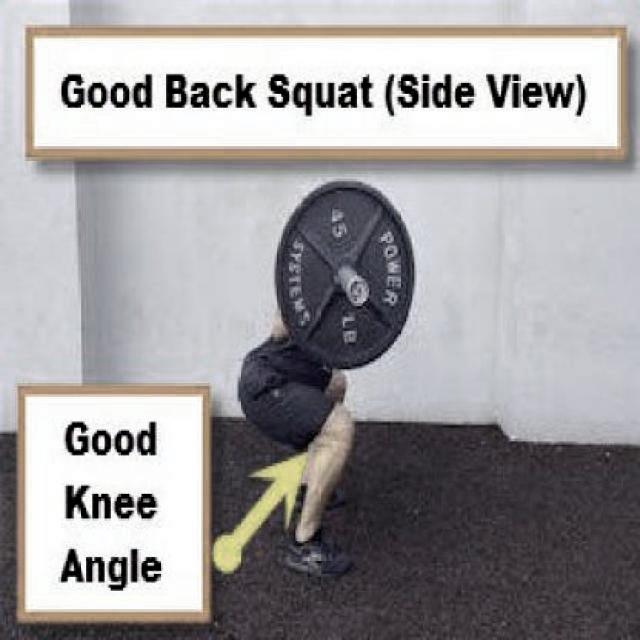barbell: (271, 176, 422, 375)
